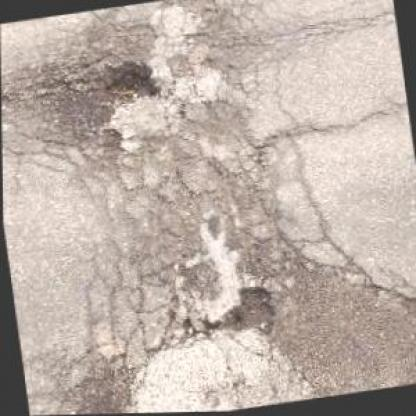pothole: (98, 54, 161, 108), (226, 282, 279, 342)
